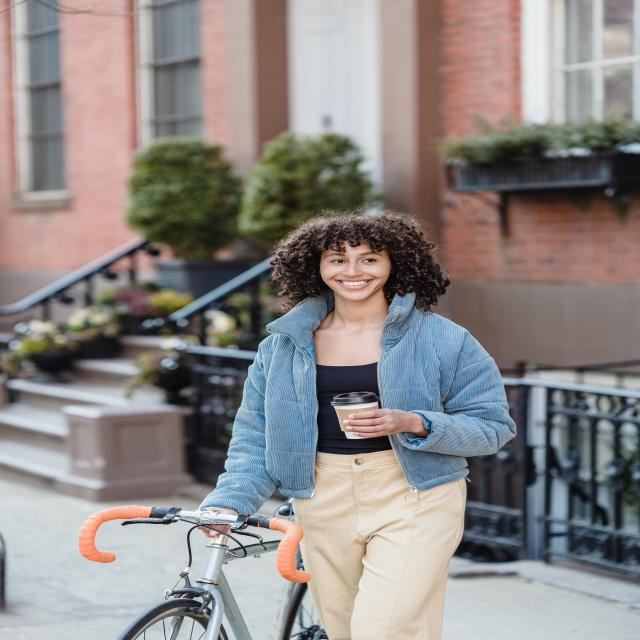cup: (331, 391, 382, 442)
